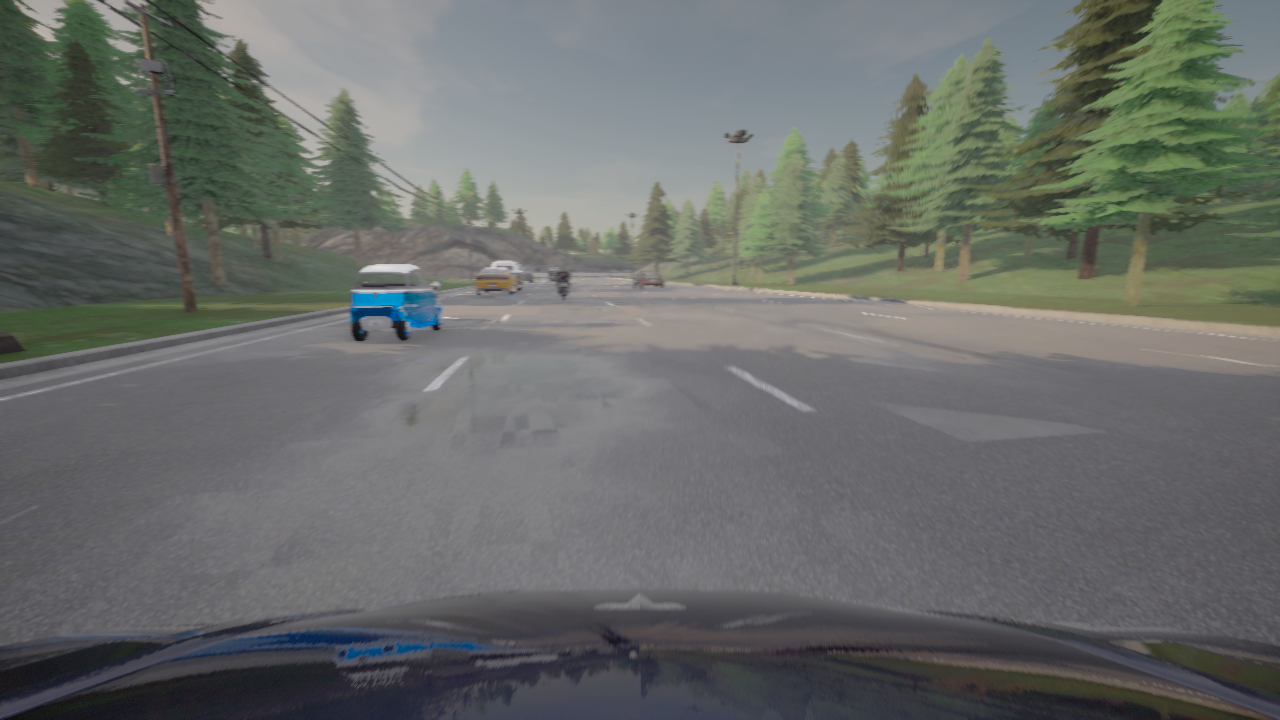cyclist: (0, 588, 1279, 719), (349, 264, 442, 341), (475, 267, 516, 295), (492, 260, 524, 291), (632, 271, 664, 288), (553, 273, 571, 300), (548, 268, 559, 278), (522, 270, 532, 281), (549, 271, 556, 283)
